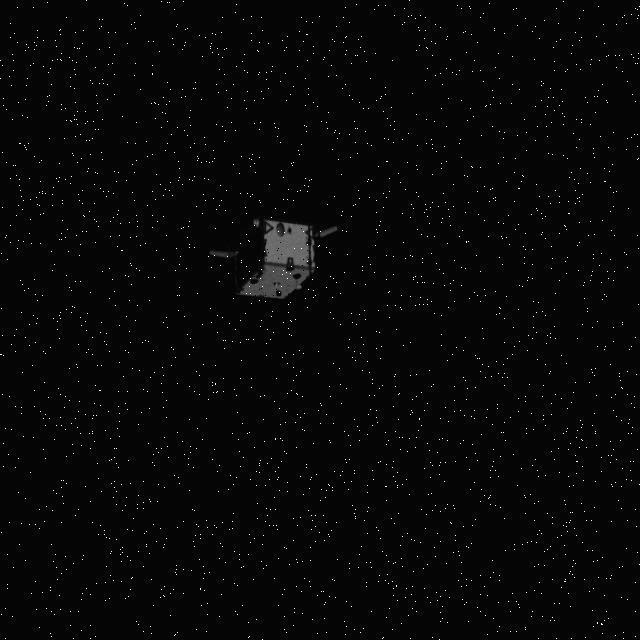satellite: (202, 216, 346, 310)
